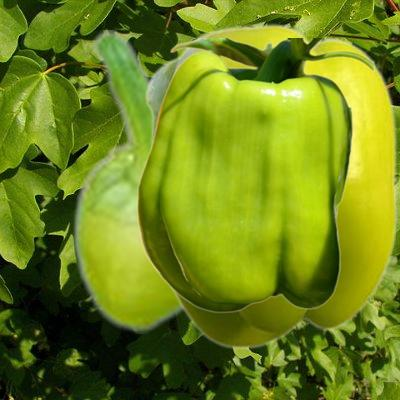bell_pepper: (144, 22, 396, 348), (136, 38, 374, 312), (71, 30, 184, 332)
